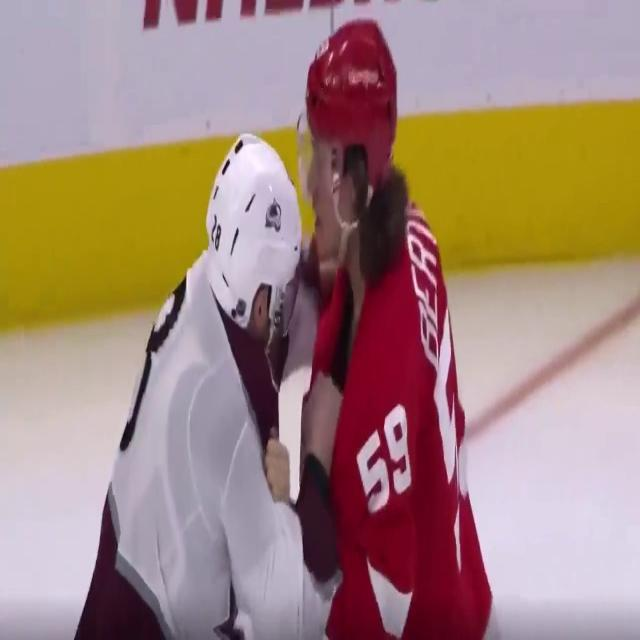Violence: (80, 18, 504, 640)
